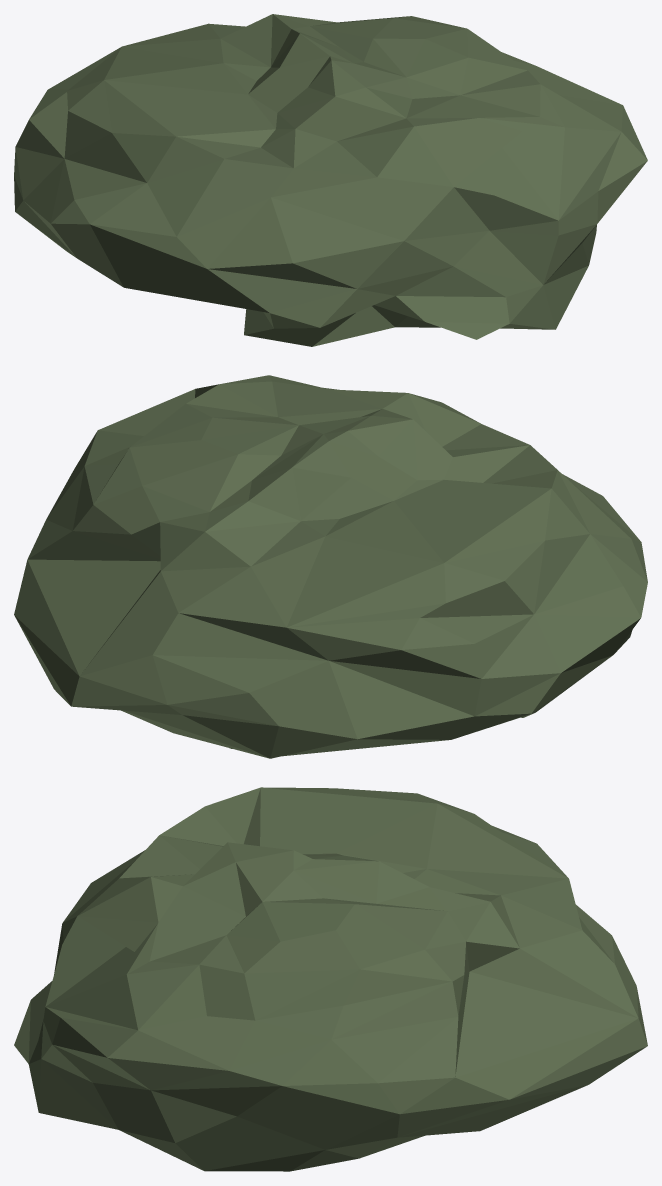
Rendered from S0.stone9.glb.
The picture shows the model from 3 angles, top to bottom: view 1: azimuth 30°, elevation 25°; view 2: azimuth 150°, elevation 25°; view 3: azimuth 270°, elevation 25°; orthographic projection. The views are drawn at different scales.
Visible parts, largest first — view 1: Landscape.015; view 2: Landscape.015; view 3: Landscape.015.
Boxes of the visible parts, left/top/right/bottom form: Landscape.015: left=14, top=14, right=647, bottom=346; Landscape.015: left=14, top=375, right=647, bottom=758; Landscape.015: left=14, top=787, right=647, bottom=1171.
Size of the model in its own units: 4.4 by 1.97 by 4.35.
